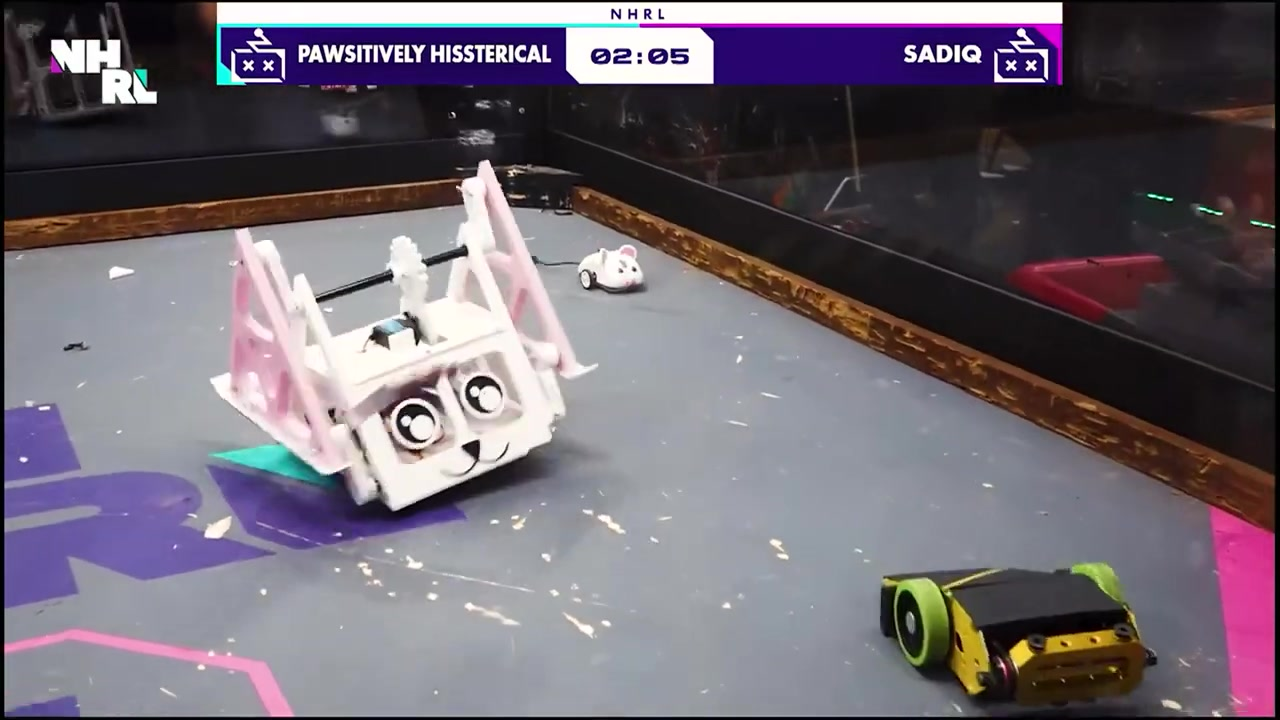combatbot: (209, 157, 605, 521), (878, 563, 1163, 707)
debris: (63, 339, 91, 354)
minibot: (527, 244, 647, 297)
